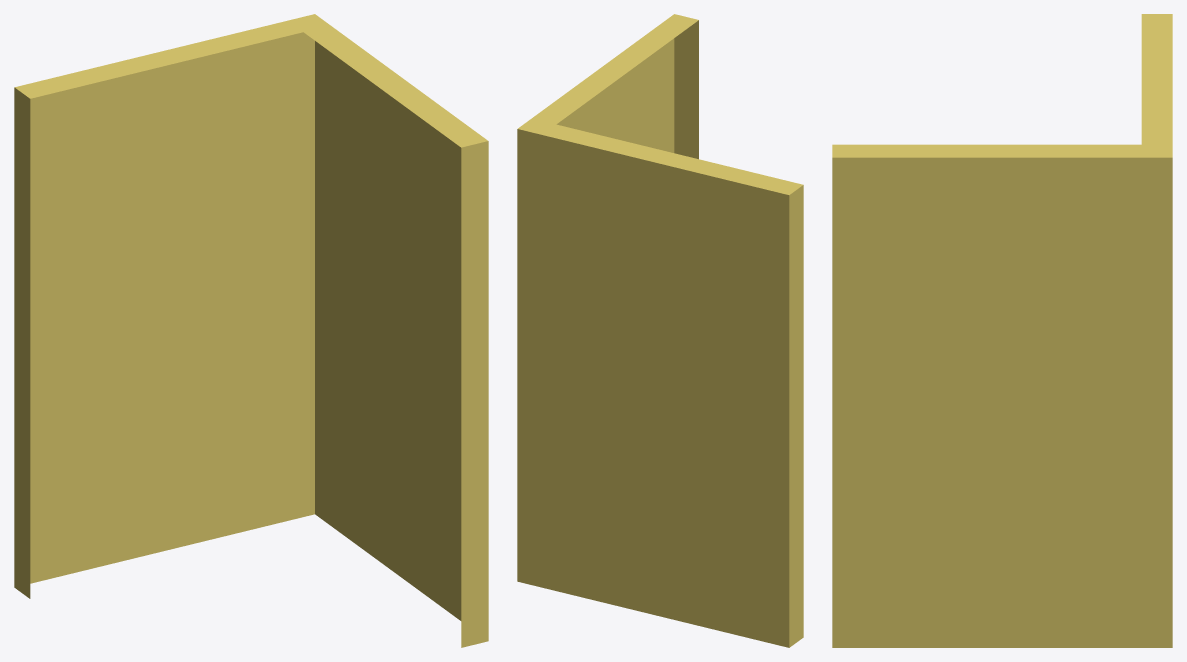
File: Yellow_Wall_Outer_Corner.fbx
The picture shows the model from 3 angles, left to right: view 1: azimuth 30°, elevation 25°; view 2: azimuth 150°, elevation 25°; view 3: azimuth 270°, elevation 25°; orthographic projection. The views are drawn at different scales.
Parts seen in each view (by area): view 1: Y Outer Corner; view 2: Y Outer Corner; view 3: Y Outer Corner.
Boxes of the visible parts, x1,y1,x2,y2 form: Y Outer Corner: (14, 14, 488, 647); Y Outer Corner: (517, 14, 803, 647); Y Outer Corner: (832, 14, 1172, 647).
Bounding box in the file's own units: 2.2 × 3.5 × 2.2.
